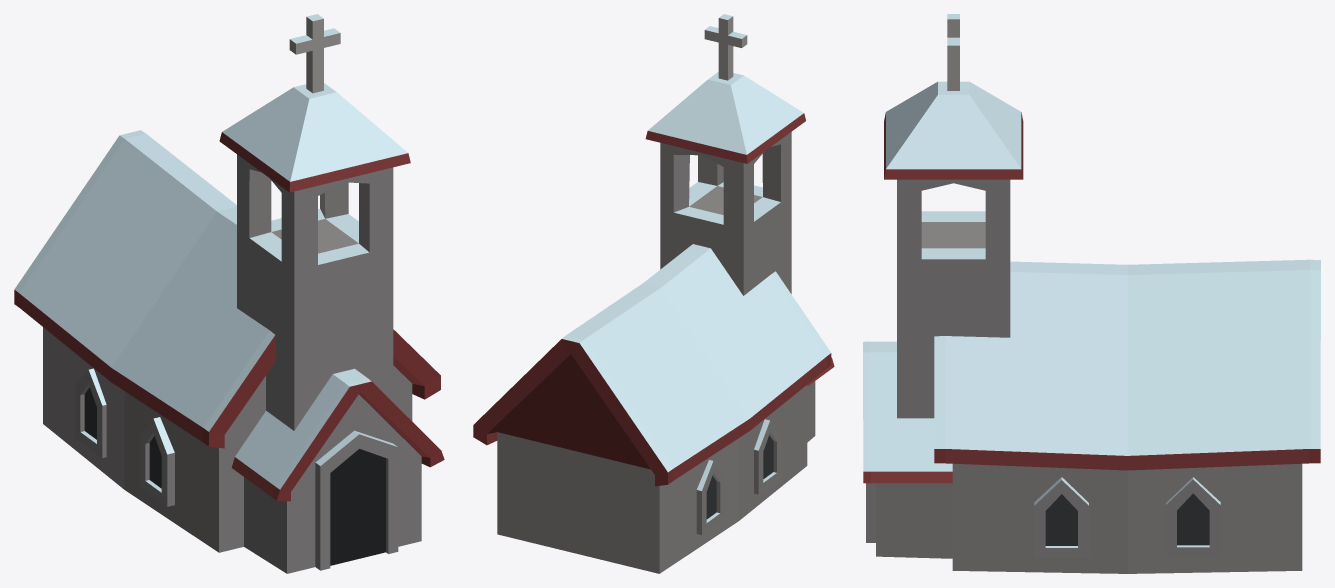
Rendered from SM_Bld_Knights_Church_01_Snow.fbx.
3 views of the same model, side by side, from view 1: azimuth 30°, elevation 25°; view 2: azimuth 150°, elevation 25°; view 3: azimuth 270°, elevation 25° (orthographic). The views are drawn at different scales.
Parts seen in each view (by area): view 1: SM_Bld_Knights_Church_01_Snow; view 2: SM_Bld_Knights_Church_01_Snow; view 3: SM_Bld_Knights_Church_01_Snow.
Part boxes in pixels (x1,y1,x2,y2): SM_Bld_Knights_Church_01_Snow: (14,14,444,573); SM_Bld_Knights_Church_01_Snow: (473,14,834,573); SM_Bld_Knights_Church_01_Snow: (863,14,1320,573).
Bounding box in the file's own units: 87.69 × 184 × 151.
Materials: 1 (1 with a texture image).
